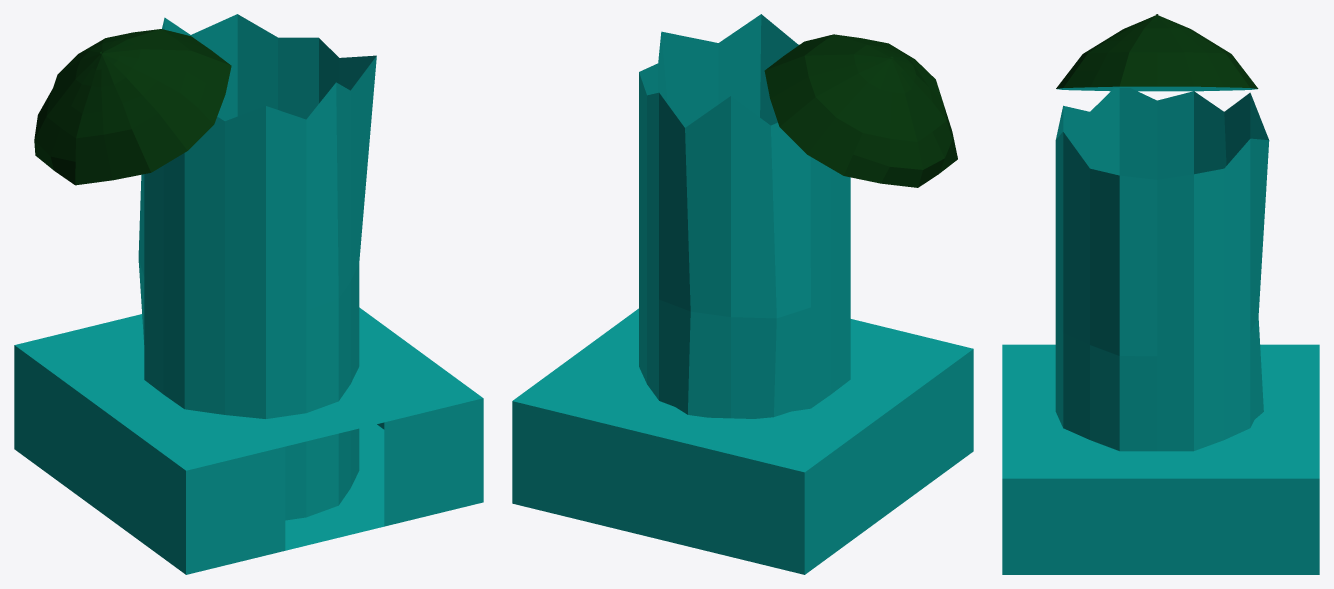
The model's file is Stockpile1d.obj.
3 renders of one model, left to right at view 1: azimuth 30°, elevation 25°; view 2: azimuth 150°, elevation 25°; view 3: azimuth 270°, elevation 25°, orthographic. The views are drawn at different scales.
Visible parts, largest first — view 1: Cube.001, Cube, Cube.002; view 2: Cube, Cube.001, Cube.002; view 3: Cube.001, Cube, Cube.002.
Part boxes in pixels (<box>): Cube.001: <box>138,14,376,520</box>; Cube: <box>14,307,483,574</box>; Cube.002: <box>34,29,231,185</box>; Cube: <box>512,308,973,574</box>; Cube.001: <box>639,14,850,418</box>; Cube.002: <box>764,34,957,187</box>; Cube.001: <box>1055,88,1269,451</box>; Cube: <box>1002,344,1319,574</box>; Cube.002: <box>1056,14,1258,91</box>.
Bounding box in the file's own units: 0.8438 × 1.07 × 0.7159.
